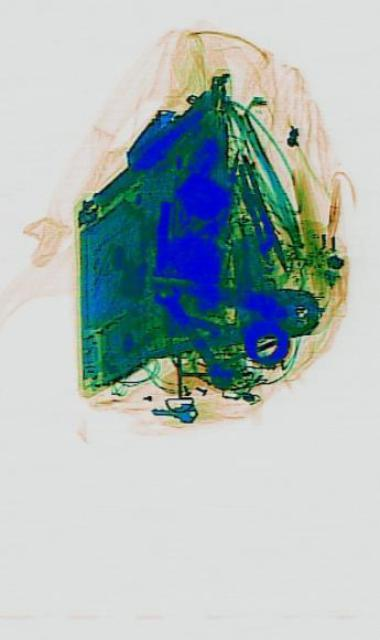Pliers: (139, 270, 316, 358)
Wrench: (151, 270, 231, 398)
